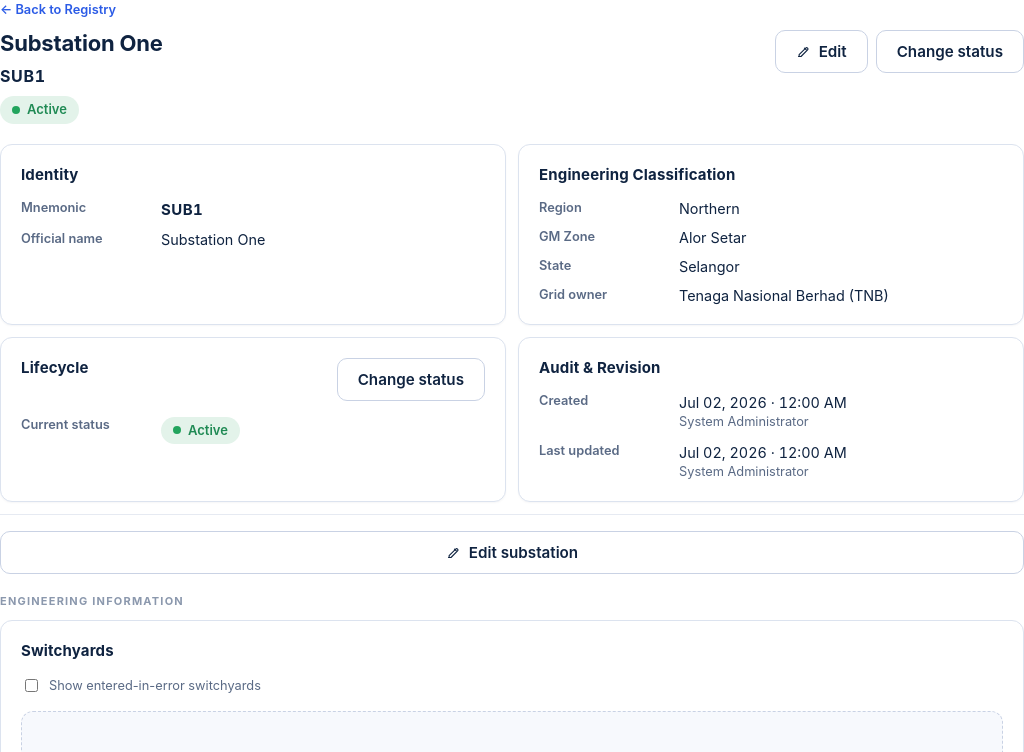
Test: SubstationDetailPage › makes no status request when the confirmation dialog is cancelled
This screenshot has width=1024, height=752.
Click the button "Change status" in the row of "Lifecycle" at (411, 379), box [337, 358, 485, 400]
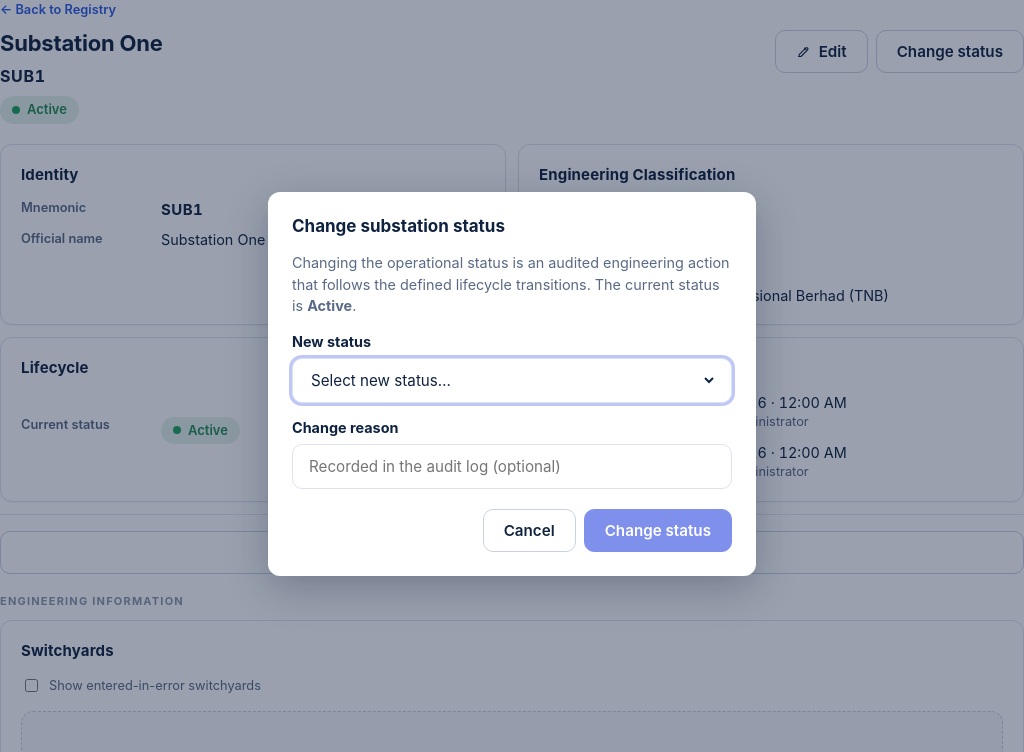
Select "Decommissioned" in the dropdown labelled "New status" at (512, 380), box [307, 359, 717, 402]
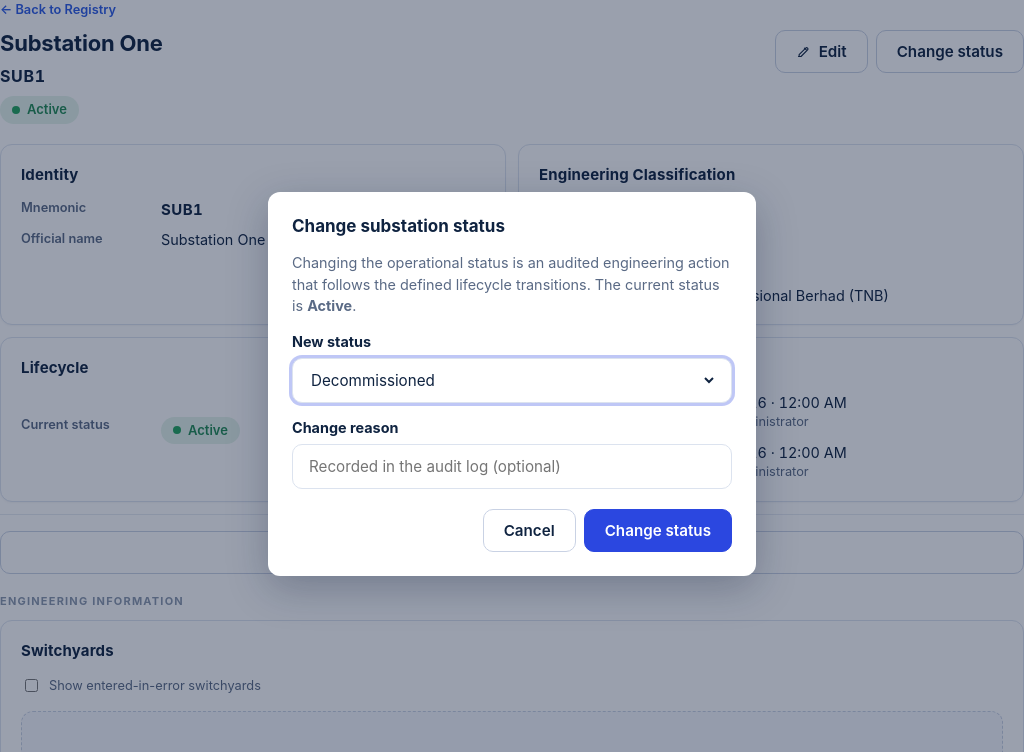
Click the button "Cancel" at (529, 530), box [483, 509, 576, 552]
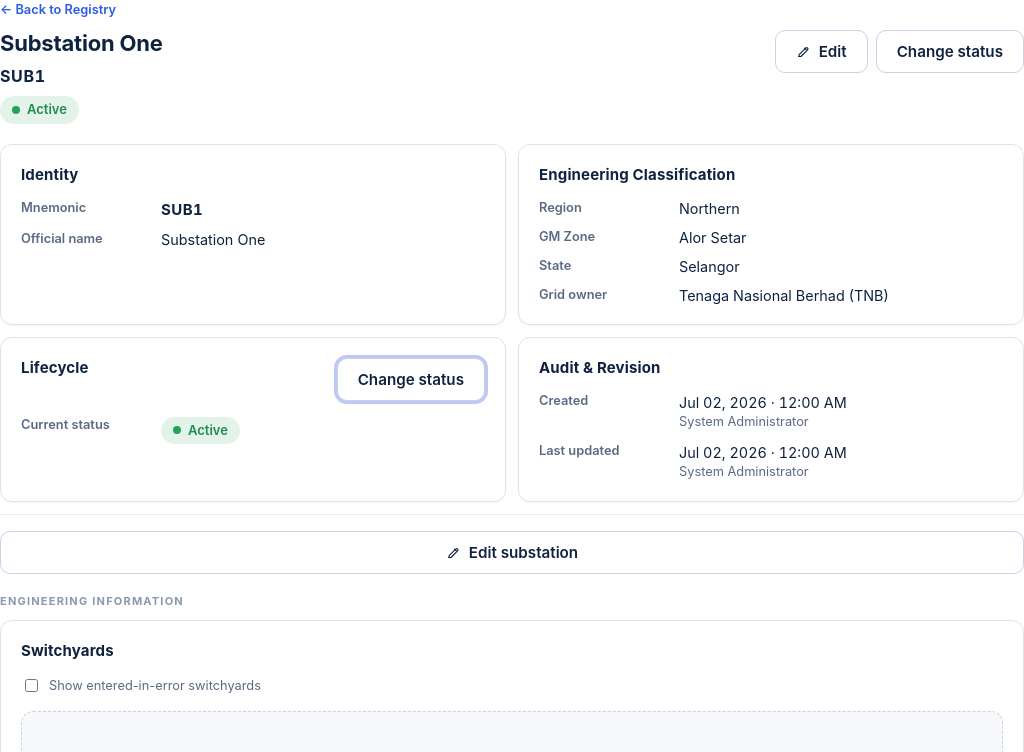
Now the heading "Change substation status" is gone
